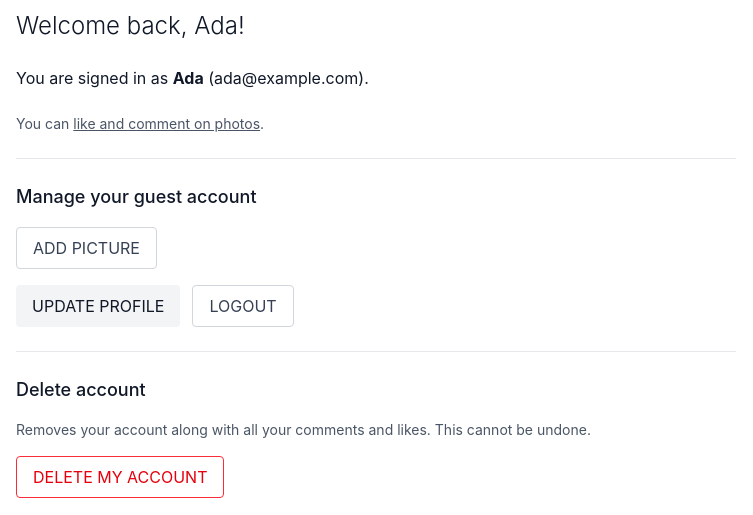
guest page › logs out and returns to the sign-in prompt
The width and height of the screenshot is (753, 515).
Click the button "LOGOUT": coordinates (243, 306) [192,285,294,327]
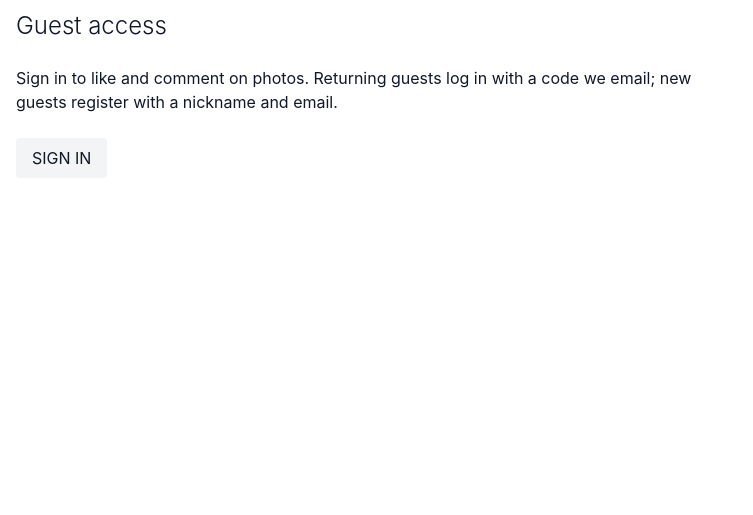
Now the button "SIGN IN" is shown, box [16,138,107,178]
